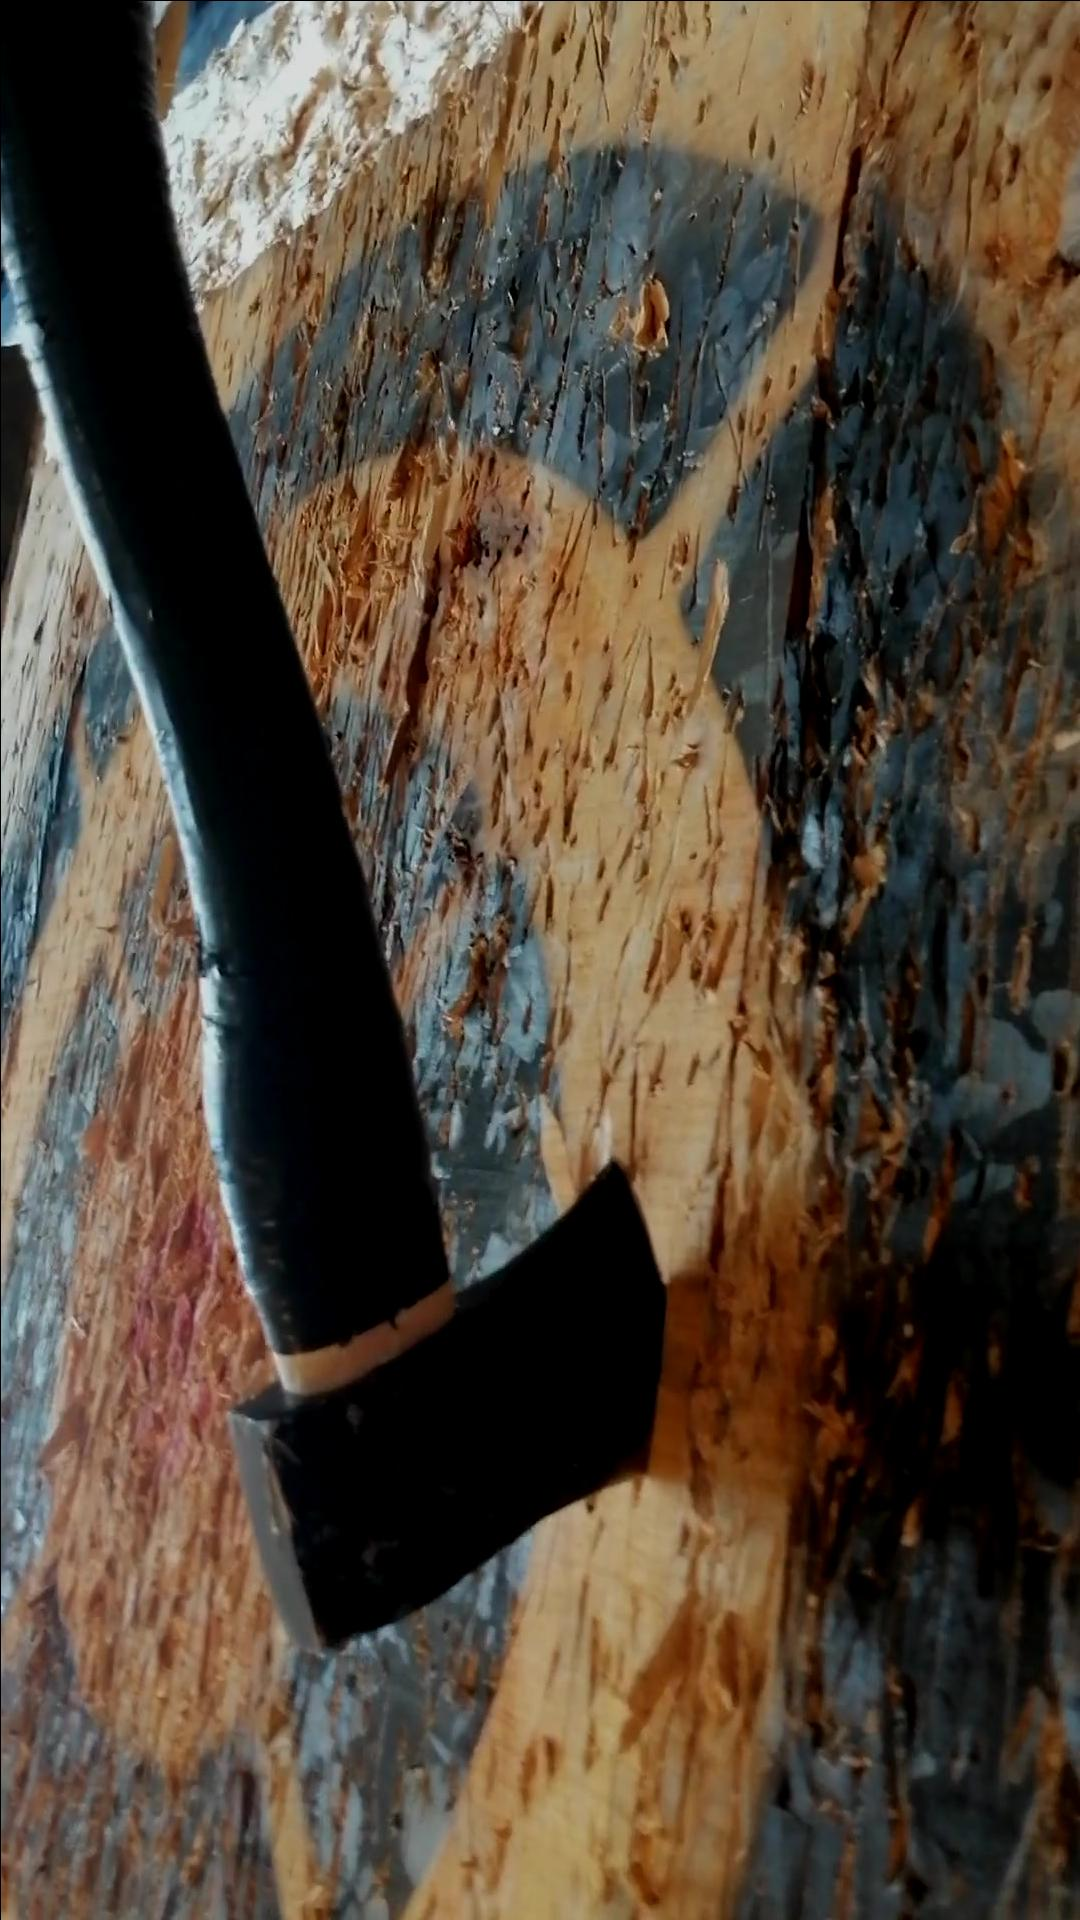Hand Axe: (232, 1153, 661, 1652)
